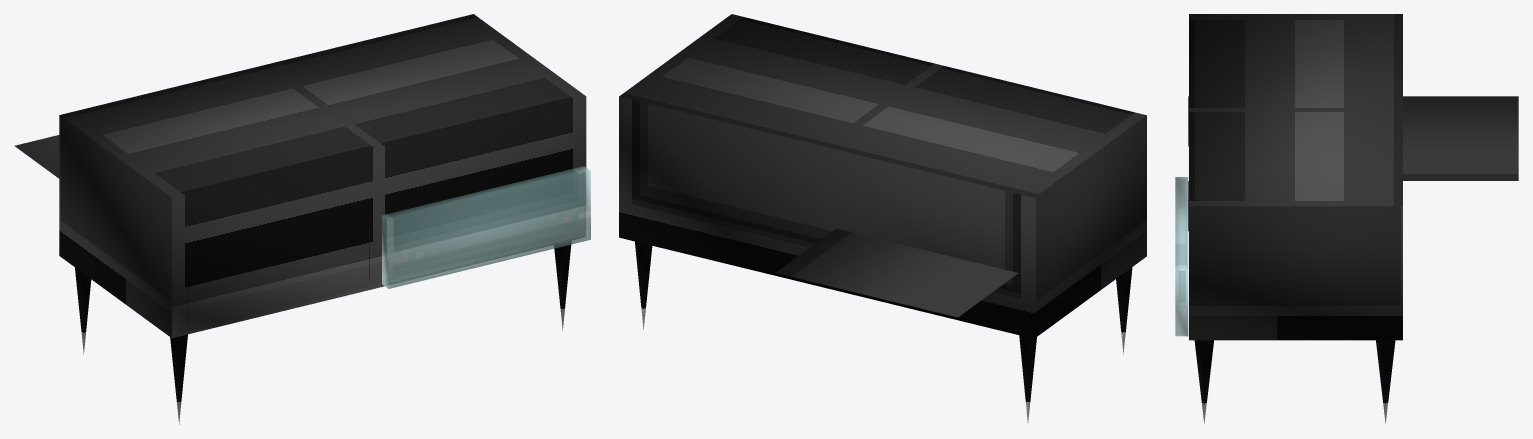
The picture shows the model from 3 angles, left to right: view 1: azimuth 30°, elevation 25°; view 2: azimuth 150°, elevation 25°; view 3: azimuth 270°, elevation 25°; orthographic projection. The views are drawn at different scales.
Parts seen in each view (by area): view 1: 3106IMRL08_05; view 2: 3106IMRL08_05; view 3: 3106IMRL08_05.
Part boxes in pixels (x1,y1,x2,y2): 3106IMRL08_05: (14,14,590,424); 3106IMRL08_05: (619,14,1146,423); 3106IMRL08_05: (1175,14,1518,423).
Bounding box in the file's own units: 2 × 1.09 × 1.51.
4 materials, 4 textured.
